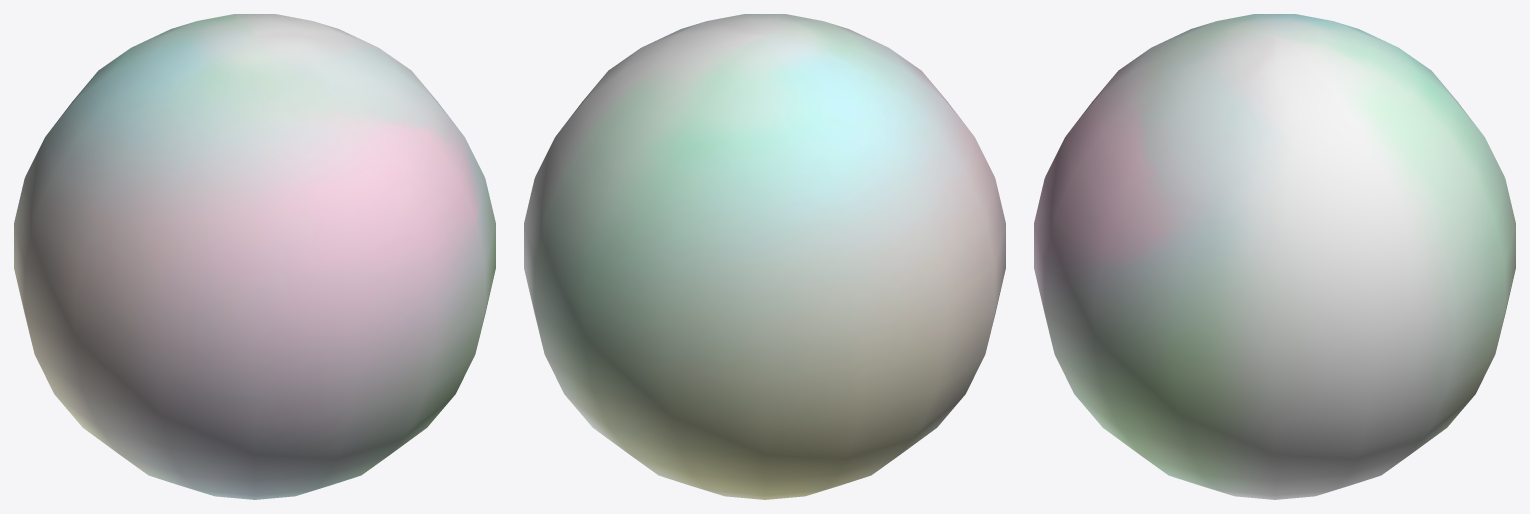
Rendered from Shinju.fbx.
The picture shows the model from 3 angles, left to right: view 1: azimuth 30°, elevation 25°; view 2: azimuth 150°, elevation 25°; view 3: azimuth 270°, elevation 25°; orthographic projection.
Visible parts, largest first — view 1: Shinju; view 2: Shinju; view 3: Shinju.
Boxes of the visible parts, x1,y1,x2,y2 form: Shinju: [14, 14, 495, 499]; Shinju: [524, 14, 1005, 499]; Shinju: [1034, 14, 1515, 499].
Bounding box in the file's own units: 197 × 200 × 198.
Materials: 1 (1 with a texture image).
